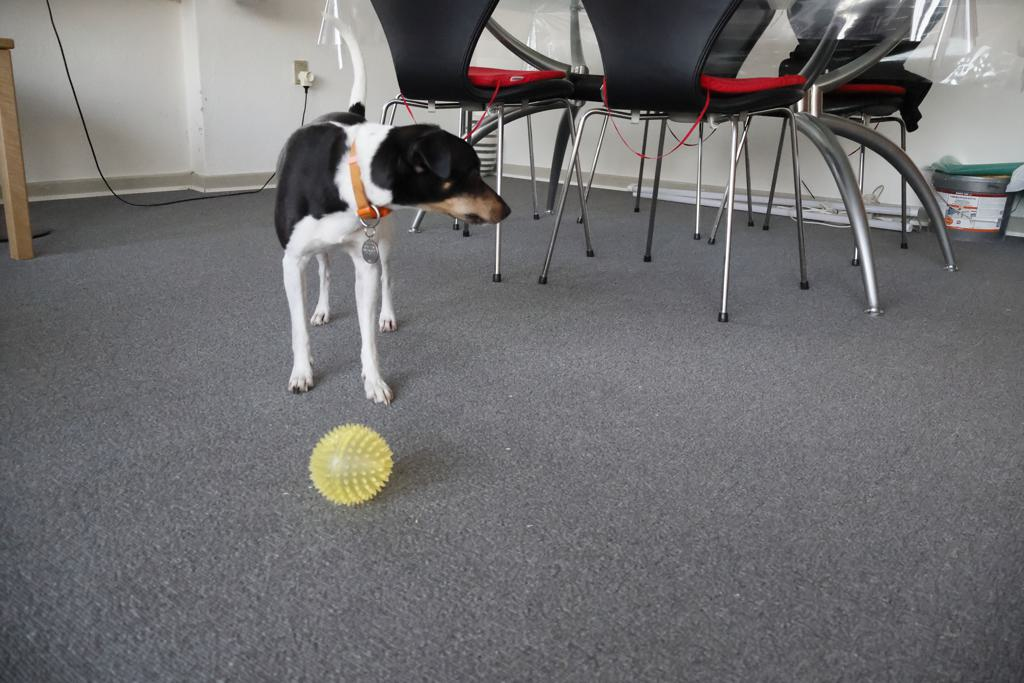Dog: (249, 5, 517, 409)
